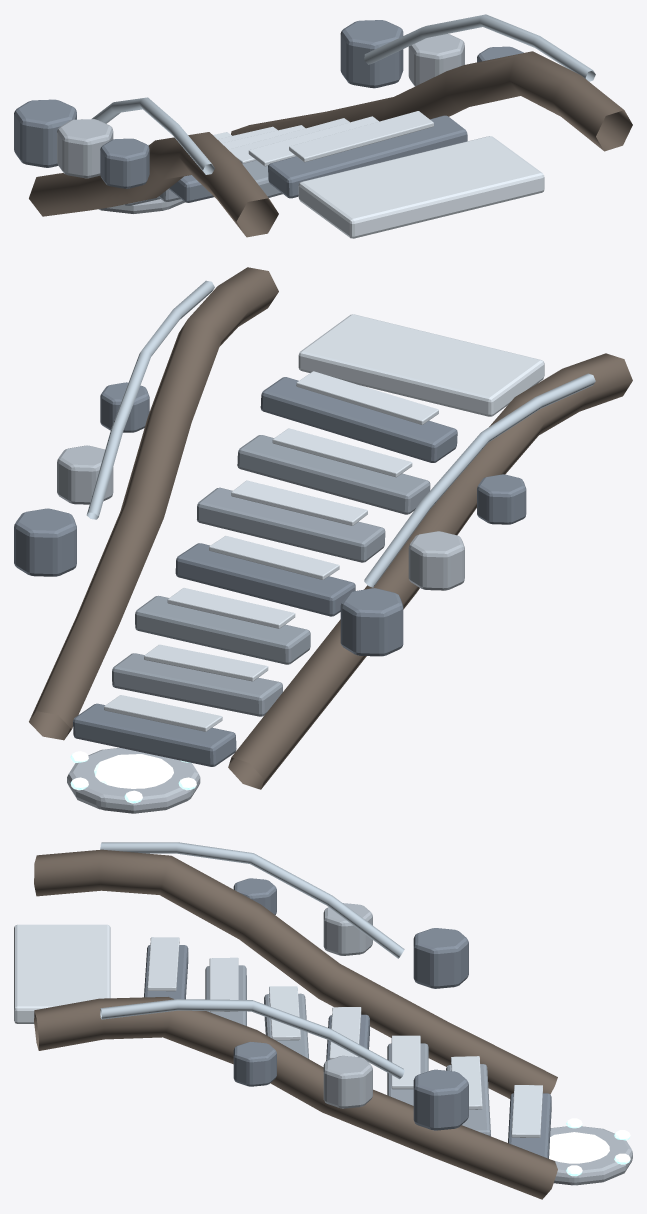
File: landmark_rootroad_stair_v1.glb
3 renders of one model, top to bottom at view 1: azimuth 30°, elevation 25°; view 2: azimuth 150°, elevation 25°; view 3: azimuth 270°, elevation 25°, orthographic. The views are drawn at different scales.
Visible parts, largest first — view 1: SnowLanding, AncientRoot_R, AncientRoot_L, RootRoadTread_01, RoadCairn_R_2, FrostRoot_R, RoadCairn_L_2, SnowCap_01, RoadCairn_L_1, RoadCairn_L_0, RoadCairn_R_1, FrostRoot_L (+7 smaller); view 2: AncientRoot_R, AncientRoot_L, SnowLanding, RootRoadTread_01, RootRoadTread_02, RootRoadTread_03, RootRoadTread_04, RootRoadTread_05, RootRoadTread_06, RootRoadTread_07, PaleWellRim, FrostRoot_L (+15 smaller); view 3: AncientRoot_L, AncientRoot_R, SnowLanding, FrostRoot_L, FrostRoot_R, RoadCairn_L_2, RoadCairn_R_2, RoadCairn_R_1, PaleWellRim, RoadCairn_L_1, RoadCairn_R_0, SnowCap_01 (+14 smaller).
Boxes of the visible parts, x1=… form: SnowLanding: x1=298, y1=136, x2=544, y2=238; AncientRoot_R: x1=231, y1=51, x2=632, y2=151; AncientRoot_L: x1=29, y1=132, x2=278, y2=237; RootRoadTread_01: x1=268, y1=115, x2=467, y2=198; RoadCairn_R_2: x1=340, y1=20, x2=403, y2=88; FrostRoot_R: x1=364, y1=14, x2=595, y2=81; RoadCairn_L_2: x1=14, y1=99, x2=76, y2=167; SnowCap_01: x1=289, y1=111, x2=433, y2=162; RoadCairn_L_1: x1=57, y1=119, x2=113, y2=178; RoadCairn_L_0: x1=100, y1=138, x2=149, y2=188; RoadCairn_R_1: x1=408, y1=34, x2=464, y2=86; FrostRoot_L: x1=92, y1=97, x2=214, y2=174; AncientRoot_R: x1=29, y1=267, x2=278, y2=740; AncientRoot_L: x1=228, y1=353, x2=632, y2=789; SnowLanding: x1=298, y1=314, x2=544, y2=416; RootRoadTread_01: x1=260, y1=377, x2=457, y2=462; RootRoadTread_02: x1=237, y1=435, x2=430, y2=514; RootRoadTread_03: x1=197, y1=487, x2=385, y2=562; RootRoadTread_04: x1=175, y1=543, x2=355, y2=616; RootRoadTread_05: x1=135, y1=595, x2=310, y2=664; RootRoadTread_06: x1=112, y1=653, x2=282, y2=716; RootRoadTread_07: x1=73, y1=703, x2=236, y2=766; PaleWellRim: x1=67, y1=747, x2=200, y2=813; FrostRoot_L: x1=364, y1=373, x2=595, y2=587; AncientRoot_L: x1=34, y1=849, x2=557, y2=1098; AncientRoot_R: x1=34, y1=997, x2=557, y2=1199; SnowLanding: x1=14, y1=924, x2=110, y2=1023; FrostRoot_L: x1=100, y1=842, x2=404, y2=958; FrostRoot_R: x1=100, y1=999, x2=404, y2=1079; RoadCairn_L_2: x1=413, y1=928, x2=468, y2=988; RoadCairn_R_2: x1=413, y1=1069, x2=468, y2=1130; RoadCairn_R_1: x1=323, y1=1055, x2=372, y2=1108; PaleWellRim: x1=550, y1=1126, x2=632, y2=1185; RoadCairn_L_1: x1=323, y1=903, x2=372, y2=955; RoadCairn_R_0: x1=233, y1=1042, x2=276, y2=1086; SnowCap_01: x1=147, y1=937, x2=179, y2=991.
Size of the model in its own units: 3.34 by 2.06 by 4.8.
